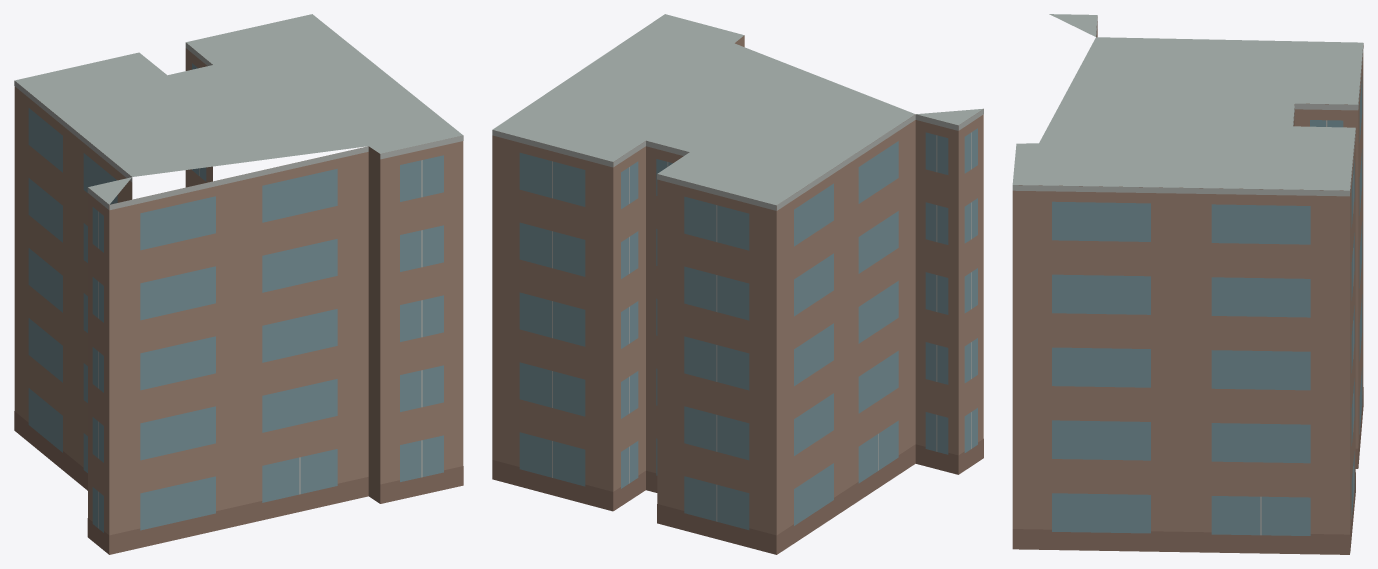
Rendered from survey-upis-32662107.glb.
3 renders of one model, left to right at view 1: azimuth 30°, elevation 25°; view 2: azimuth 150°, elevation 25°; view 3: azimuth 270°, elevation 25°, orthographic. The views are drawn at different scales.
Parts seen in each view (by area): view 1: survey-upis-32662107.tmp; view 2: survey-upis-32662107.tmp; view 3: survey-upis-32662107.tmp.
Part boxes in pixels (x1,y1,x2,y2): survey-upis-32662107.tmp: [14, 14, 463, 554]; survey-upis-32662107.tmp: [492, 14, 983, 554]; survey-upis-32662107.tmp: [1012, 14, 1363, 554].
Size of the model in its own units: 15.91 by 15.3 by 13.36.
